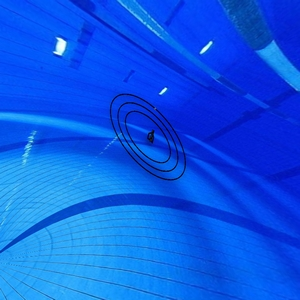circle: (107, 91, 193, 185)
submarine: (145, 127, 158, 149)
